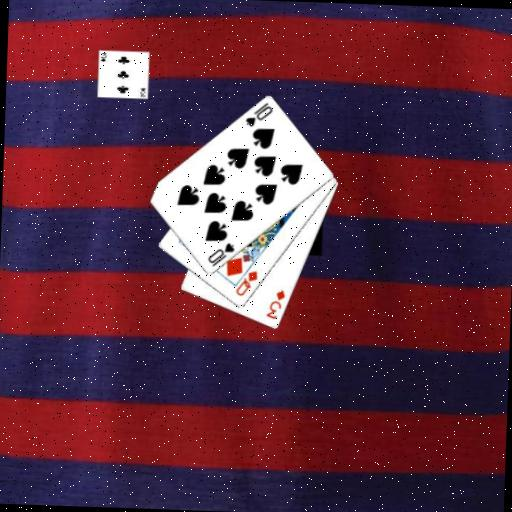10S: (204, 239, 236, 269), (242, 99, 274, 129)
3D: (263, 285, 287, 321)
QD: (232, 267, 260, 298)
